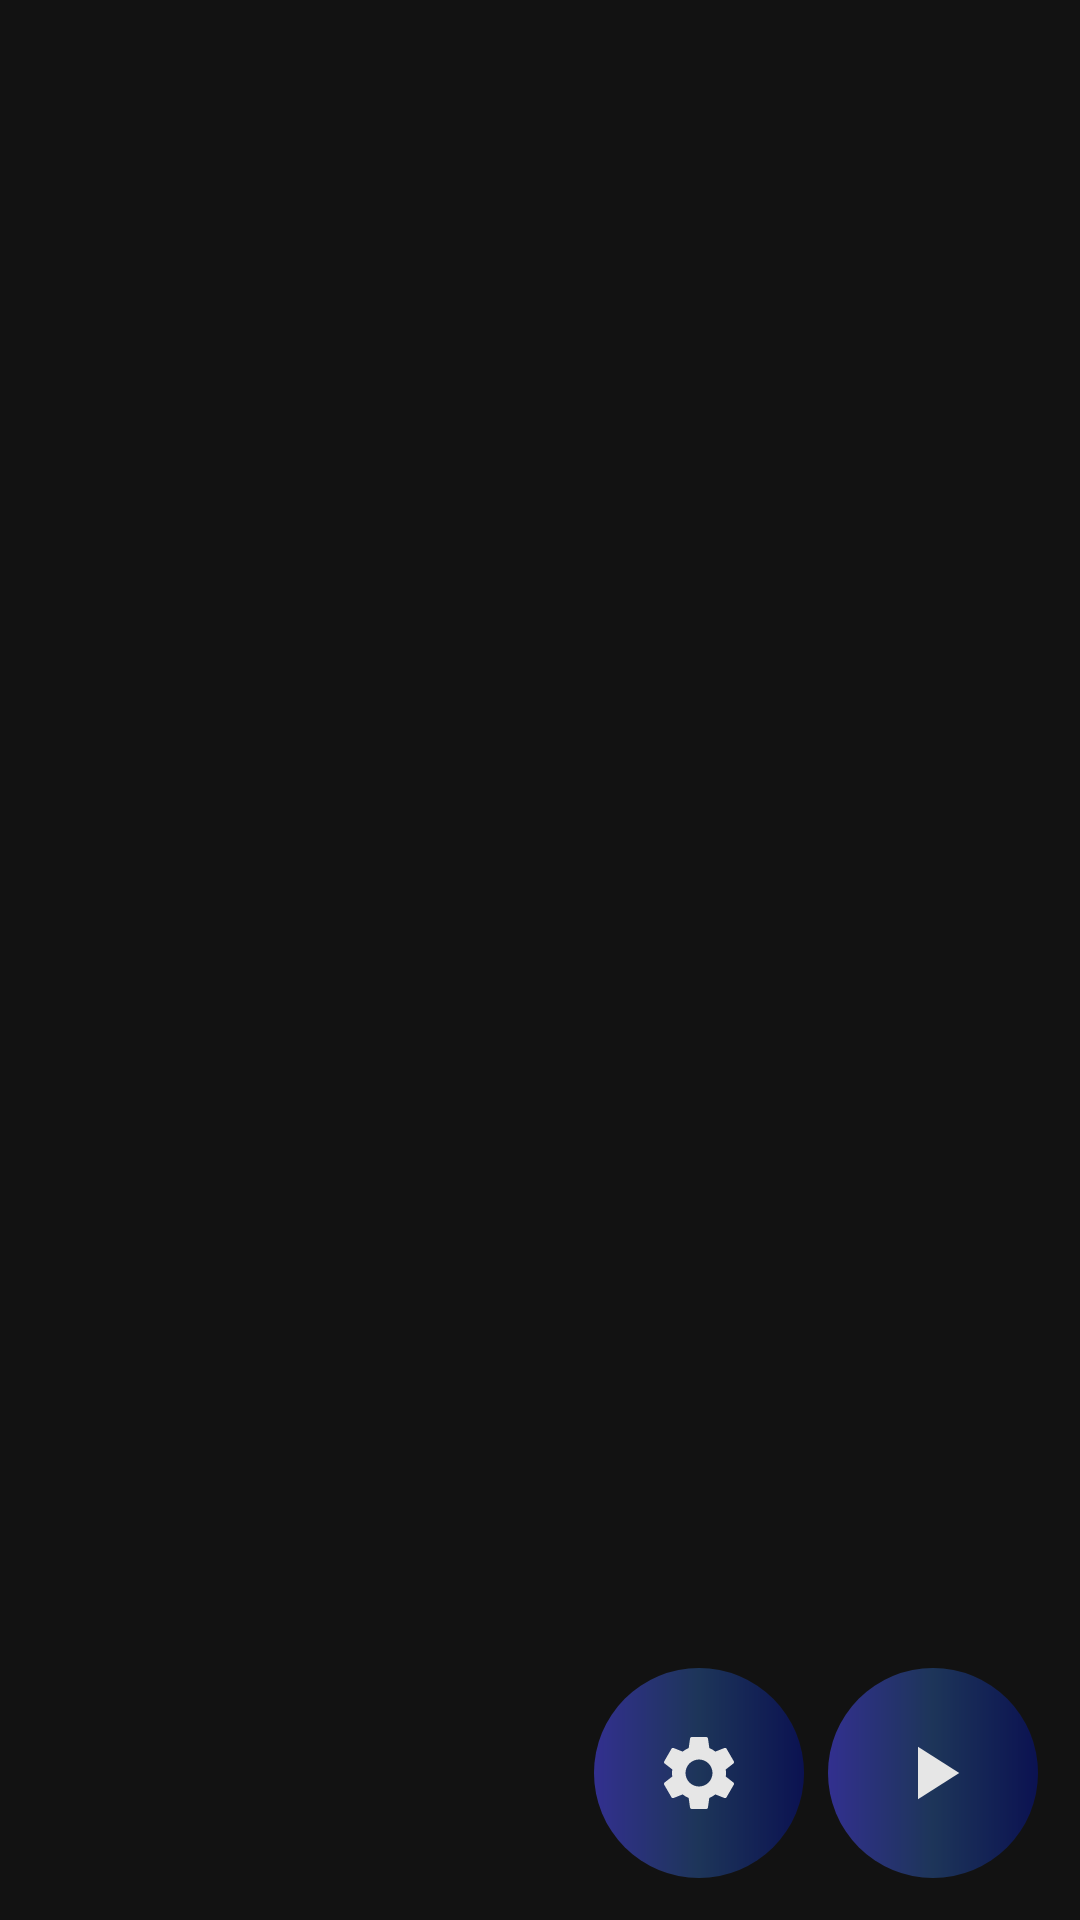

Icons on this 1080w x 1920h Android screen, each with its box as box(x1, y1, x2, y2):
play: box(828, 1668, 1038, 1878)
setting: box(594, 1668, 804, 1878)
